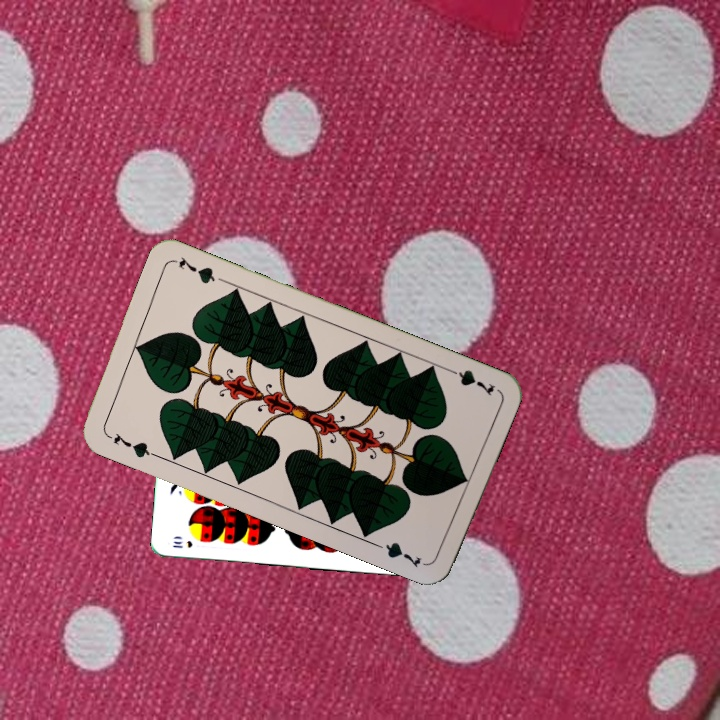G7: (441, 364, 498, 399), (102, 428, 159, 461)
S10: (168, 537, 195, 550)
